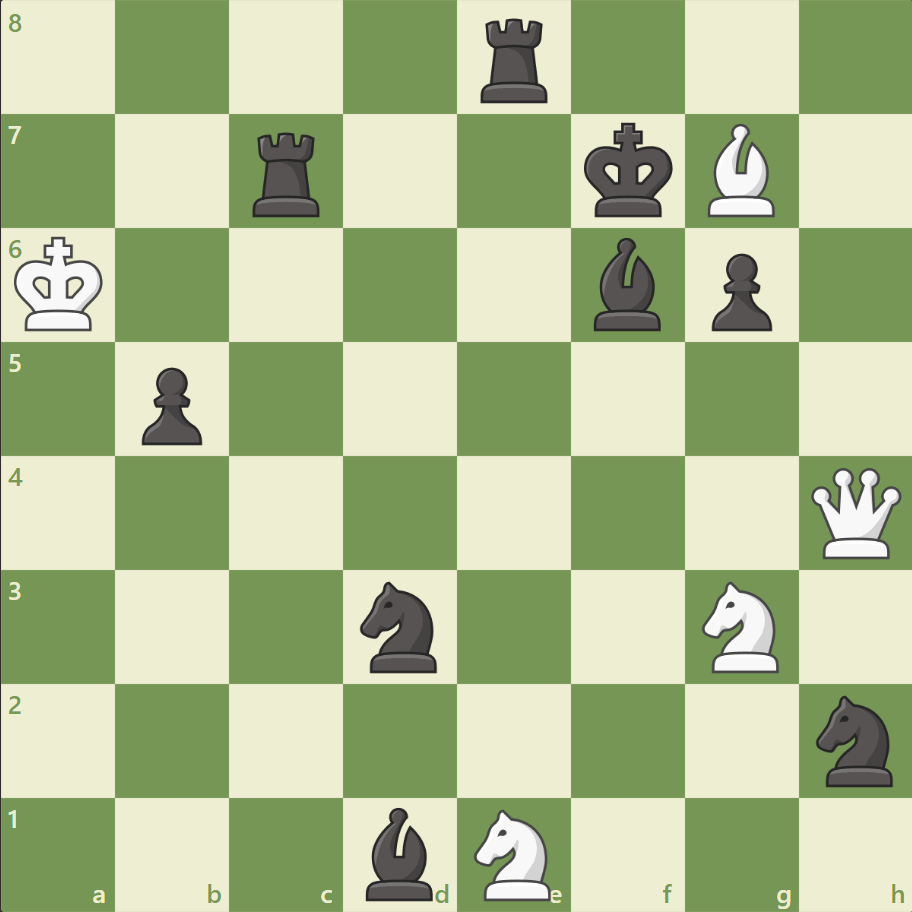B: (698, 120, 782, 222)
K: (11, 231, 111, 339)
N: (692, 575, 789, 677), (465, 802, 562, 904)
Q: (805, 463, 904, 562)
b: (585, 233, 669, 336), (358, 801, 442, 904)
k: (579, 117, 679, 225)
n: (351, 575, 449, 677), (806, 688, 903, 791)
p: (701, 246, 776, 337), (133, 359, 208, 450)
r: (473, 12, 556, 109), (246, 125, 329, 222)
